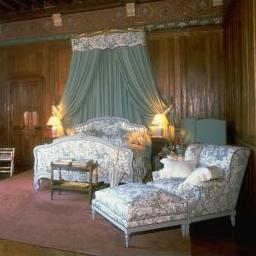Cama: (37, 121, 152, 177)
